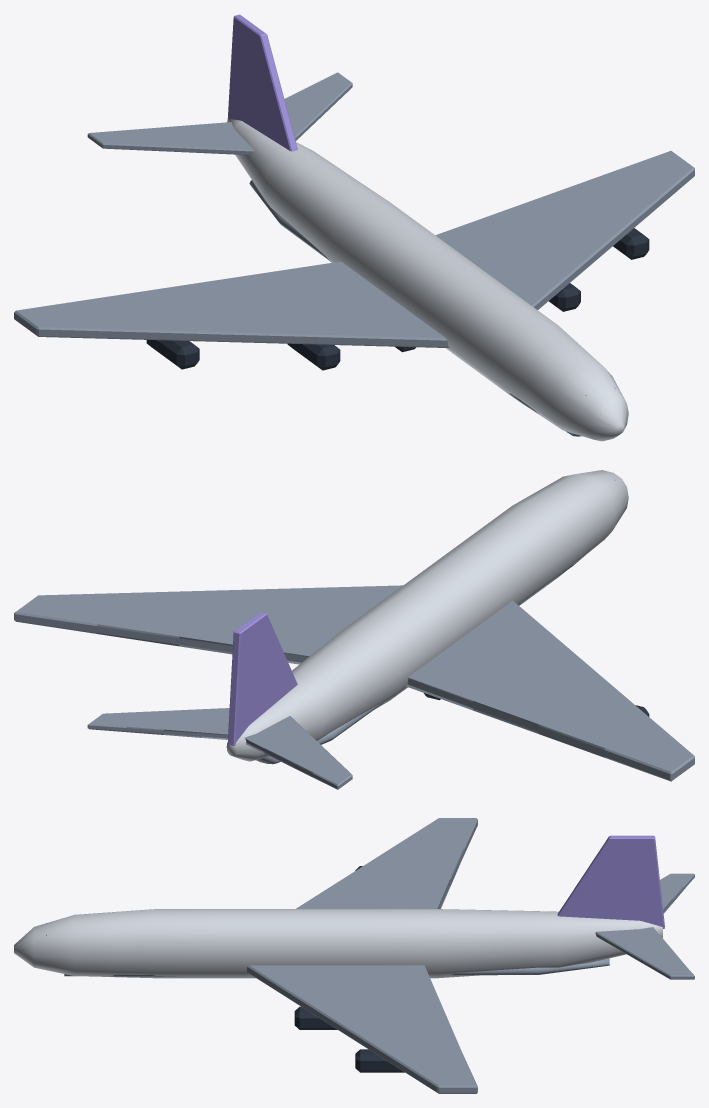
File: cargo_plane.glb
3 renders of one model, top to bottom at view 1: azimuth 30°, elevation 25°; view 2: azimuth 150°, elevation 25°; view 3: azimuth 270°, elevation 25°, orthographic. The views are drawn at different scales.
Parts seen in each view (by area): view 1: cargo_plane; view 2: cargo_plane; view 3: cargo_plane.
Boxes of the visible parts, x1,y1,x2,y2 form: cargo_plane: (14,14,694,441); cargo_plane: (14,470,694,789); cargo_plane: (14,818,694,1093).
Bounding box in the file's own units: 63 × 15.6 × 67.46.
